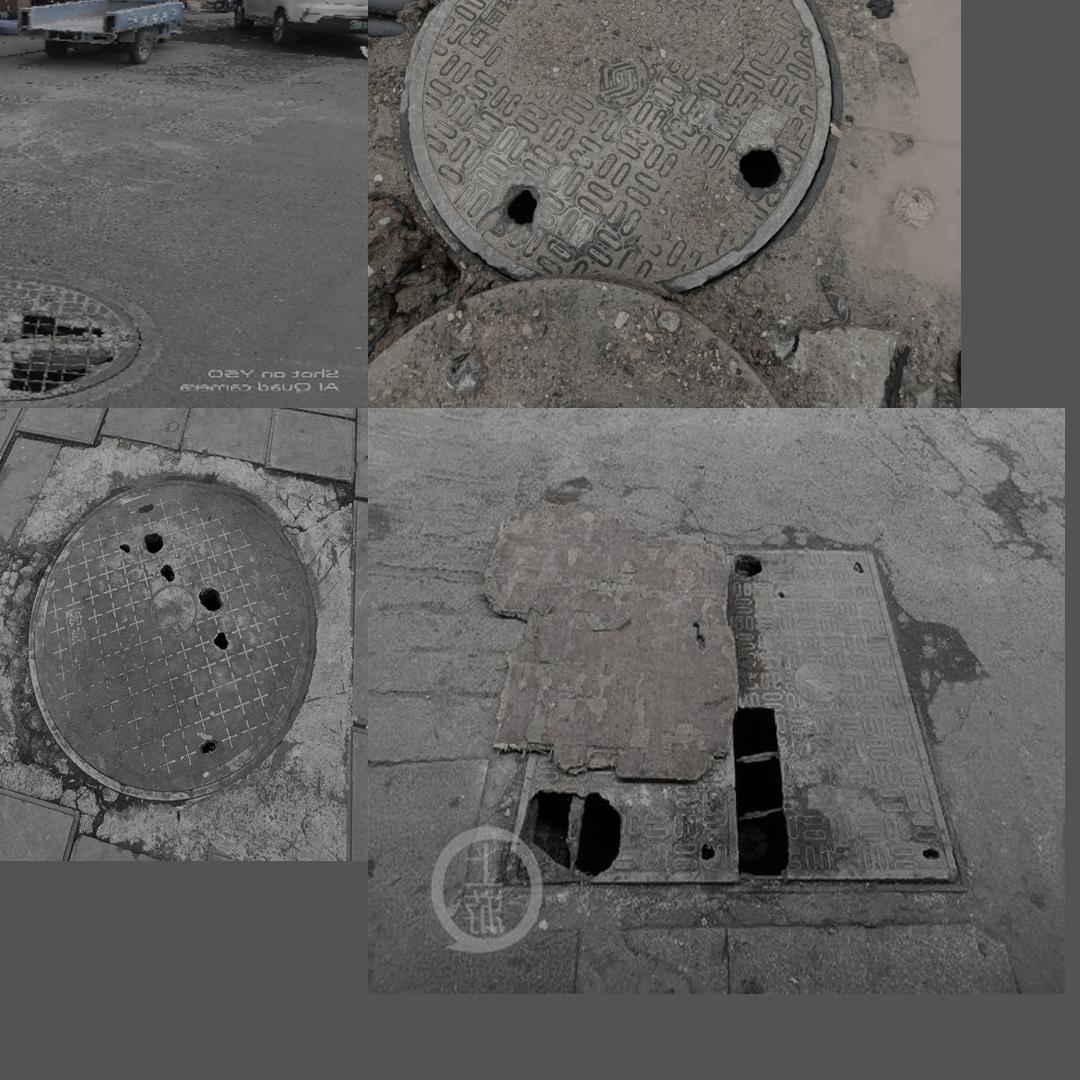broke: (473, 520, 968, 918), (398, 0, 840, 298), (27, 481, 314, 799), (0, 269, 160, 406)
